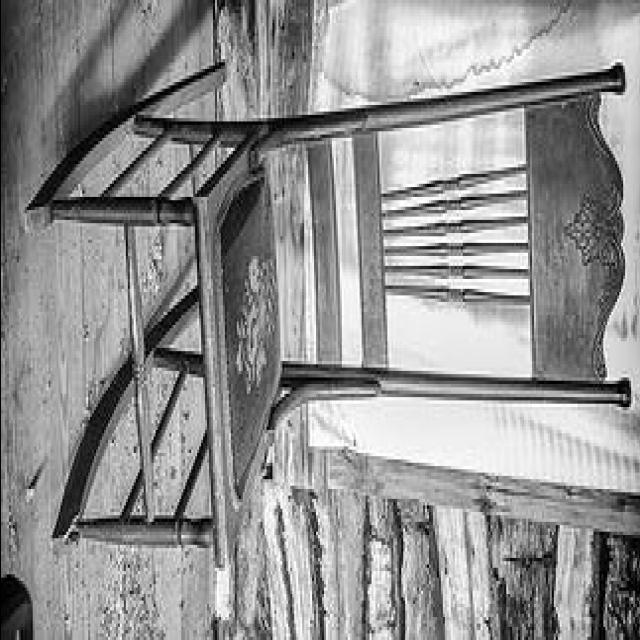chair: (30, 66, 632, 552)
